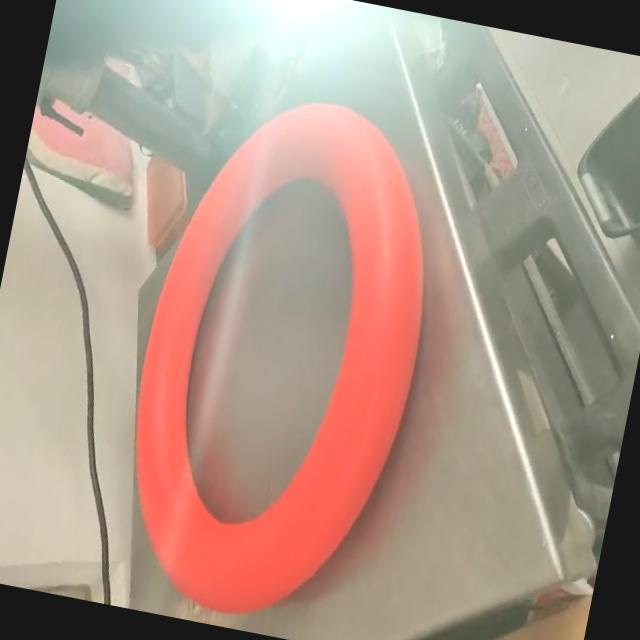note: (92, 71, 470, 640)
